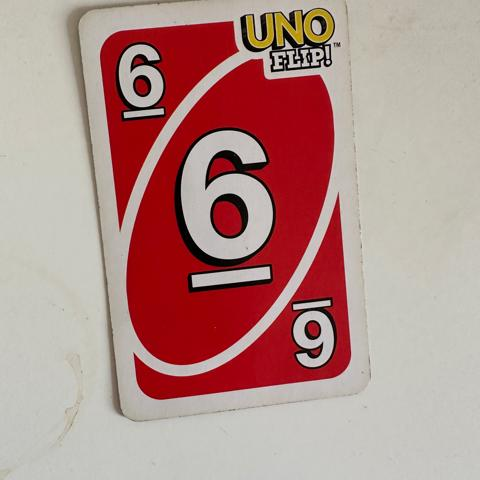2_yellow: (171, 125, 280, 295), (114, 41, 168, 122), (287, 295, 343, 373)
